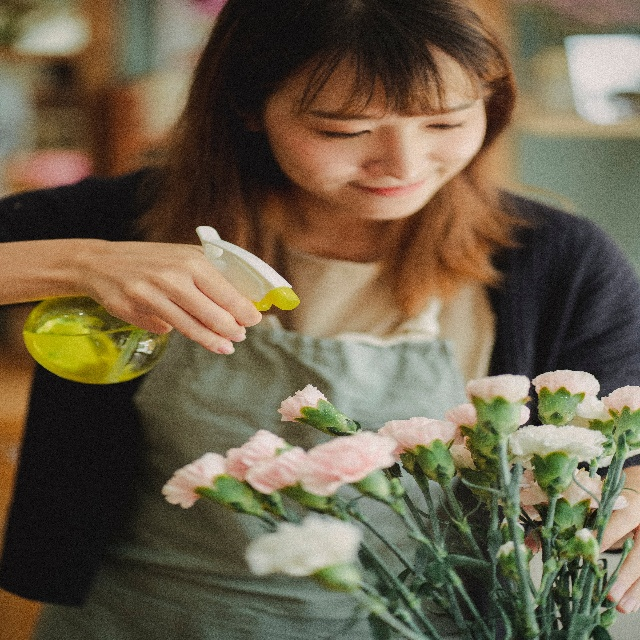Sin_guantes: (97, 235, 258, 356)
